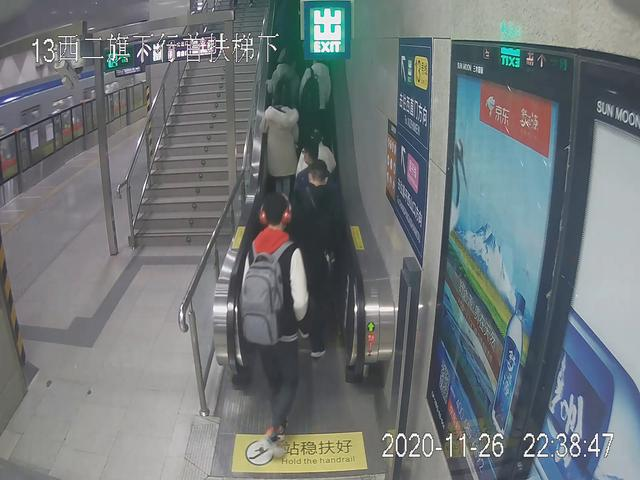person: (238, 192, 314, 457), (284, 154, 346, 363), (258, 85, 304, 227)
